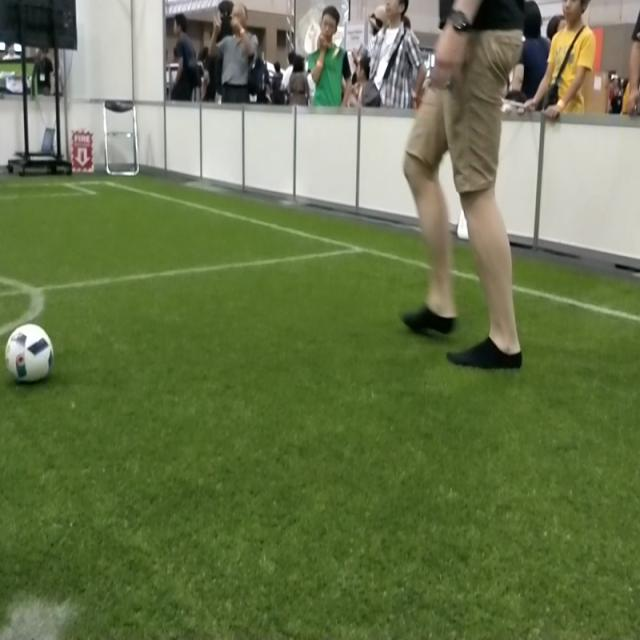ball: (5, 323, 53, 385)
